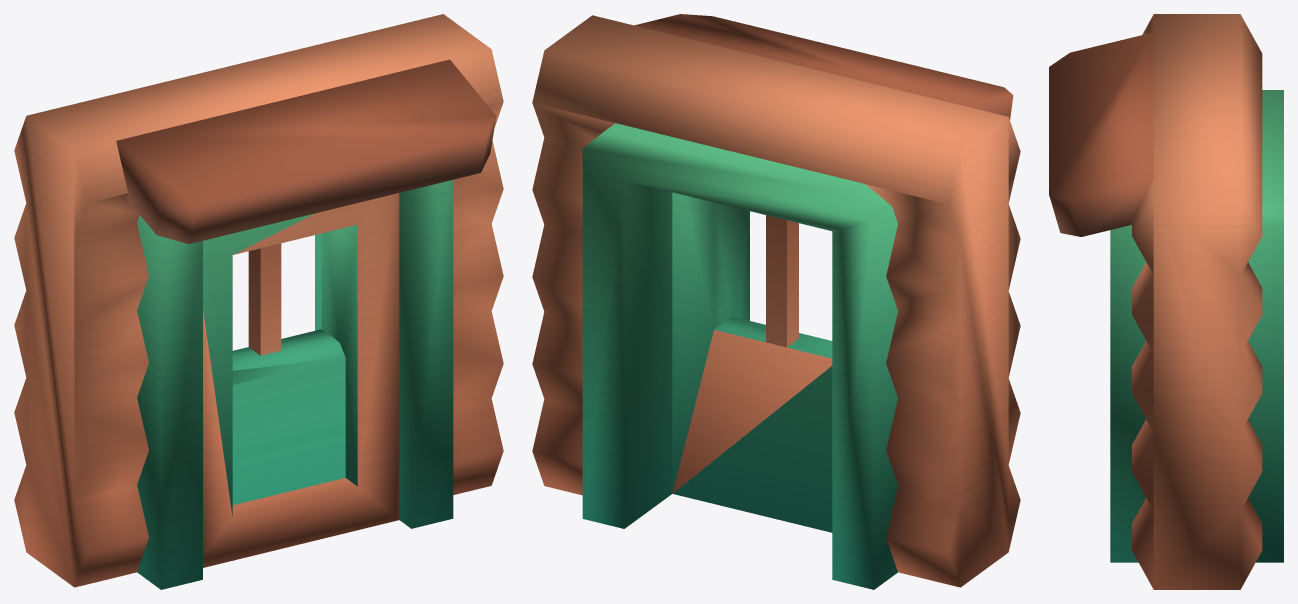
File: cabin-overhang-door-rotate_lev3.glb
3 views of the same model, side by side, from view 1: azimuth 30°, elevation 25°; view 2: azimuth 150°, elevation 25°; view 3: azimuth 270°, elevation 25° (orthographic). The views are drawn at different scales.
Visible parts, largest first — view 1: cabin-overhang-door-rotate_lev3; view 2: cabin-overhang-door-rotate_lev3; view 3: cabin-overhang-door-rotate_lev3.
Part boxes in pixels (x1,y1,x2,y2): cabin-overhang-door-rotate_lev3: [14, 14, 503, 589]; cabin-overhang-door-rotate_lev3: [532, 14, 1020, 589]; cabin-overhang-door-rotate_lev3: [1049, 14, 1283, 589].
Bounding box in the file's own units: 1 × 1 × 0.5415.
Materials: 1 (1 with a texture image).
